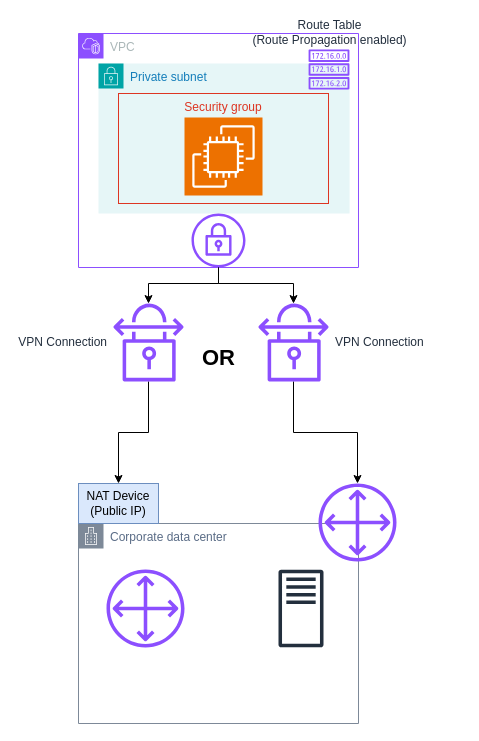
The diagram is 479 pixels wide and 741 high, and some of its shapes have lost their labels. The centre of each missing label's shape, as x and y in pixels:
Customer Gateway (Private IP): [145,608]
Customer Gateway (Public IP): [357,522]
Server: [300,608]
VPN Gateway: [218,240]
